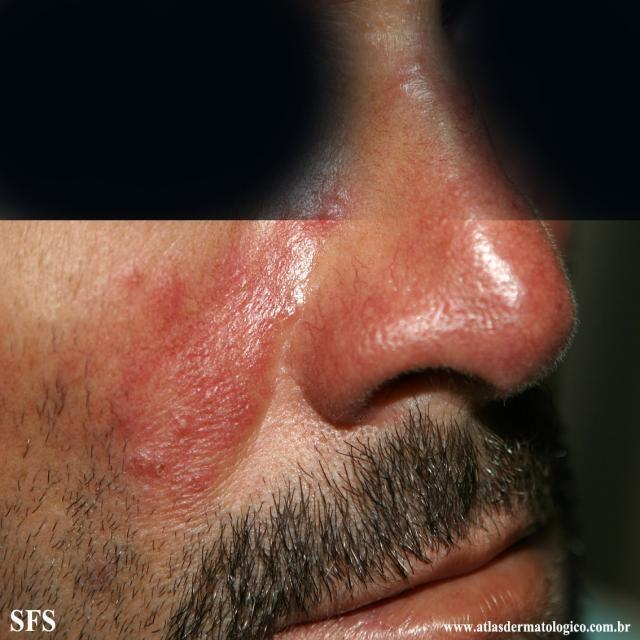Rosacea: (107, 222, 316, 492), (316, 228, 574, 413)
